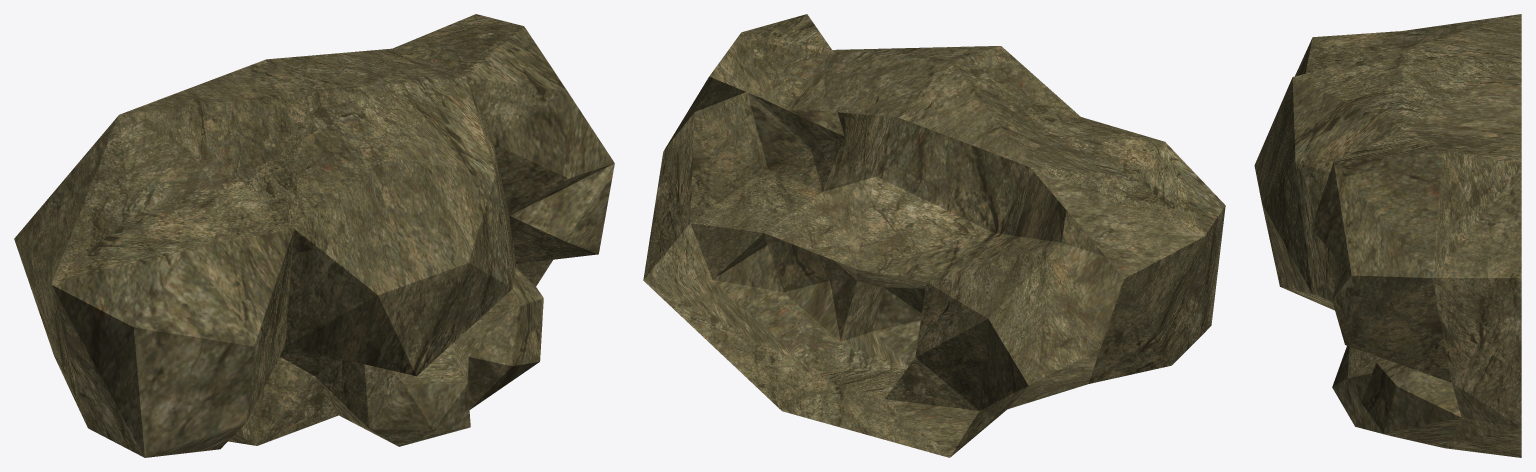
File: juqing_yewai_564_stone01.obj
3 renders of one model, left to right at view 1: azimuth 30°, elevation 25°; view 2: azimuth 150°, elevation 25°; view 3: azimuth 270°, elevation 25°, orthographic. The views are drawn at different scales.
Visible parts, largest first — view 1: juqing_yewai_564_stone01; view 2: juqing_yewai_564_stone01; view 3: juqing_yewai_564_stone01.
Boxes of the visible parts, x1,y1,x2,y2 form: juqing_yewai_564_stone01: (14,14,614,457); juqing_yewai_564_stone01: (643,14,1225,457); juqing_yewai_564_stone01: (1254,14,1521,457).
Bounding box in the file's own units: 132 × 85.25 × 57.86.
1 material, 1 textured.
